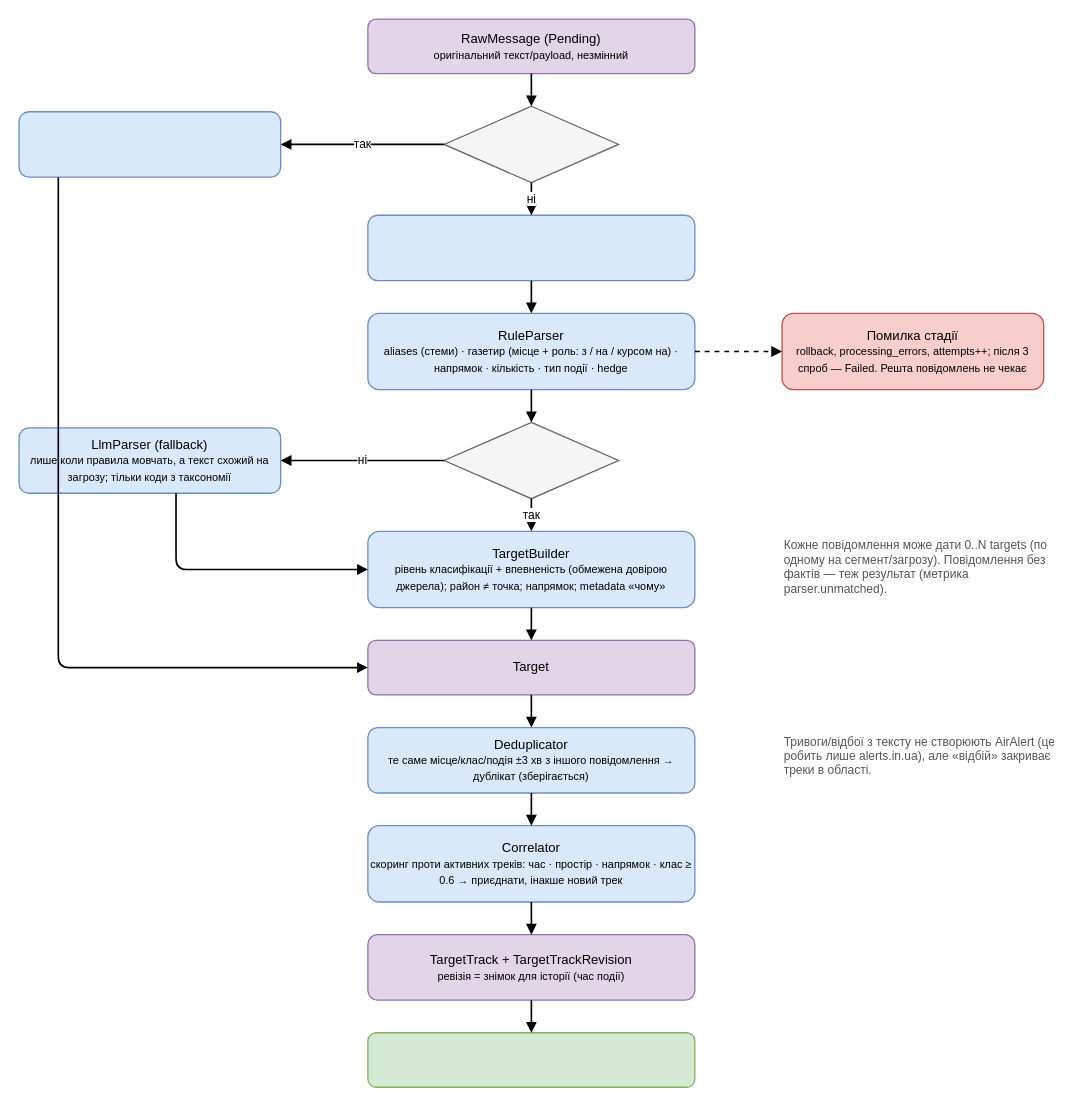
The diagram is 1085 pixels wide and 1107 high, and some of its shapes have lost their labels. Each missing label, with the box of its shape:
AlertsInUaHandler AirAlert + Target(AirRaidAlert/AlertCancelled), без NLP: (18, 111, 281, 177)
COMMIT → NOTIFY puluj_events → SignalR: (367, 1032, 695, 1087)
Normalizer NFC, emoji→слова, lower-case, речення → сегменти, токени: (367, 214, 695, 281)
структурований payload?: (443, 105, 619, 183)
є факти?: (443, 421, 619, 499)
